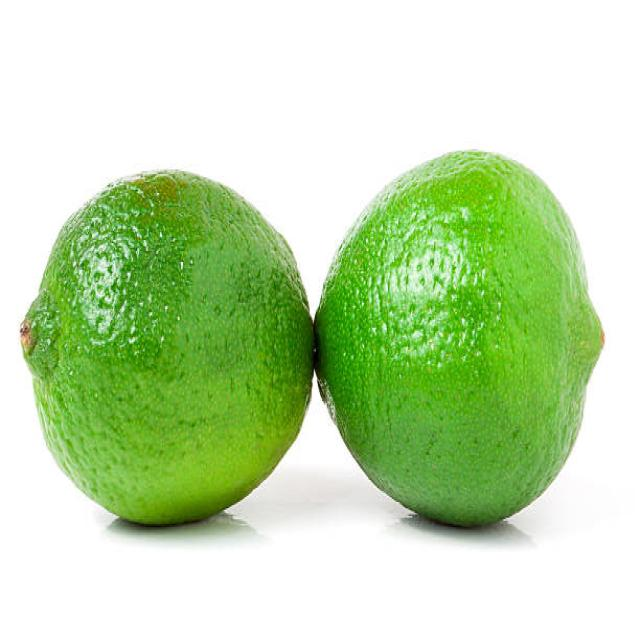Unripe: (315, 150, 606, 526), (23, 166, 315, 526)
